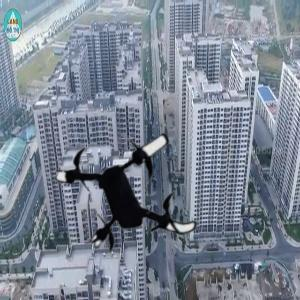drone: (58, 114, 211, 267)
